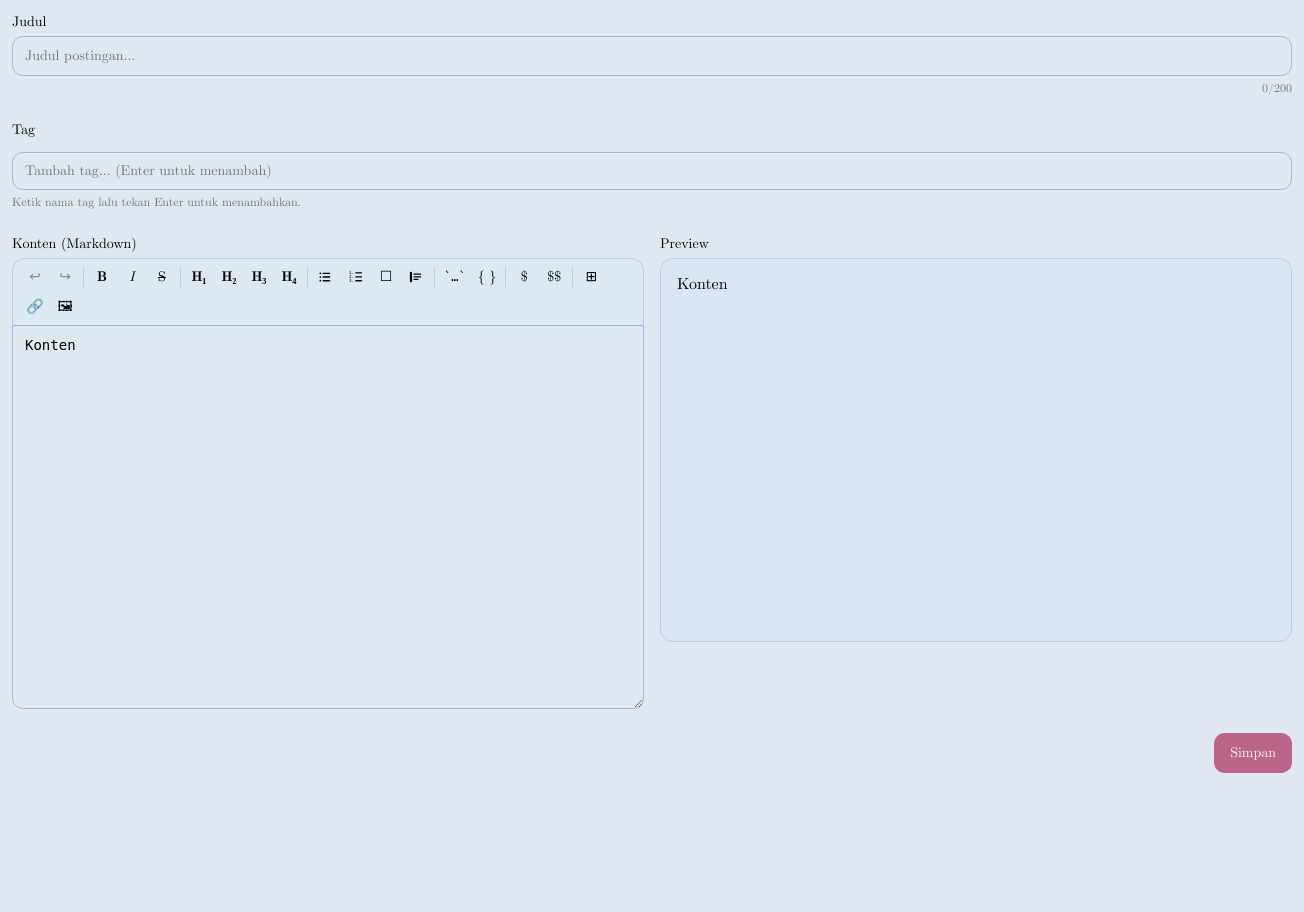
Test case: PostEditor › shows validation error when title is empty on submit
Click the button "Simpan" at {"x": 1253, "y": 753}, box [1214, 733, 1292, 773]
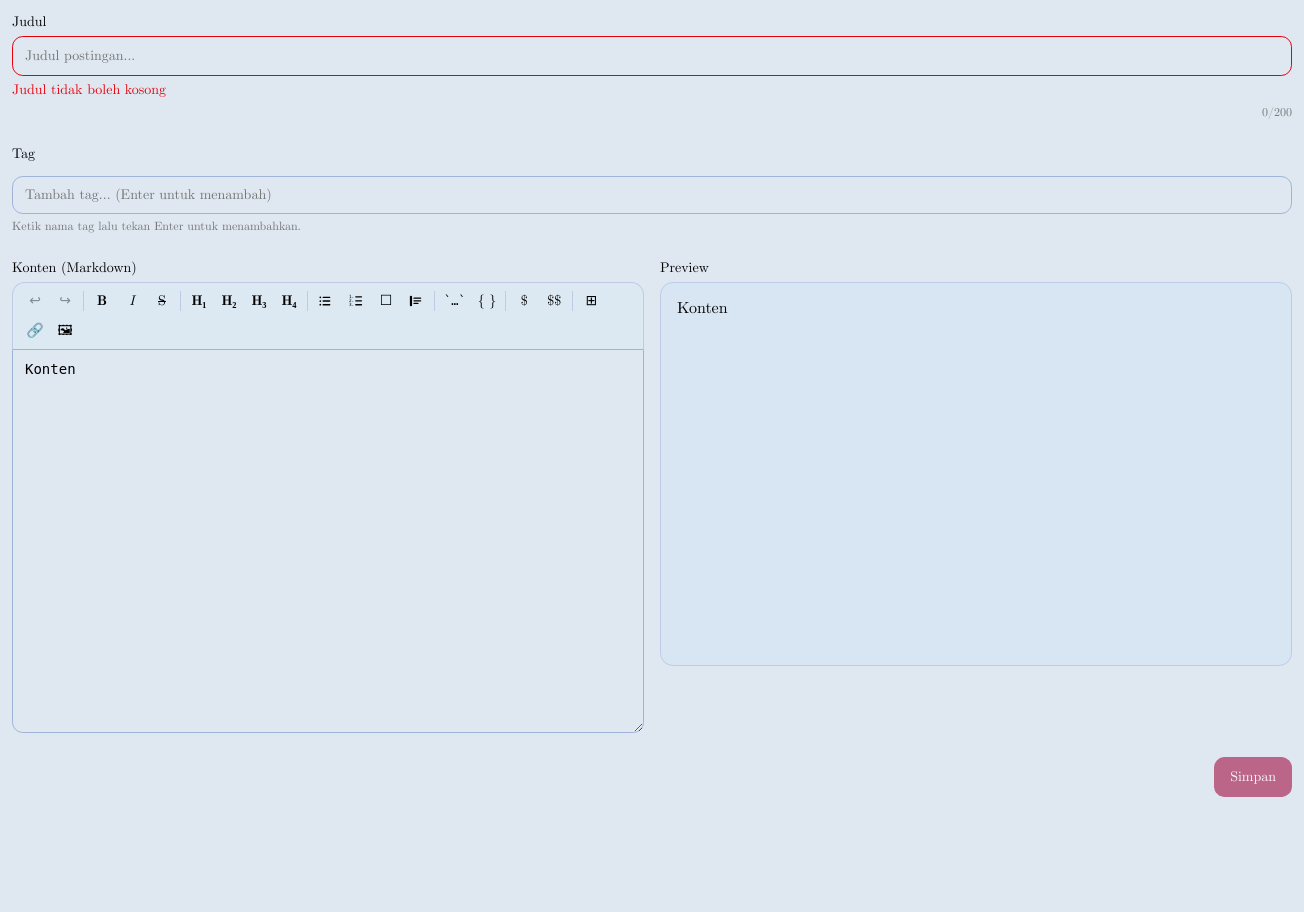
Expected: the text "Judul tidak boleh kosong" is shown, [12, 83, 166, 97]
